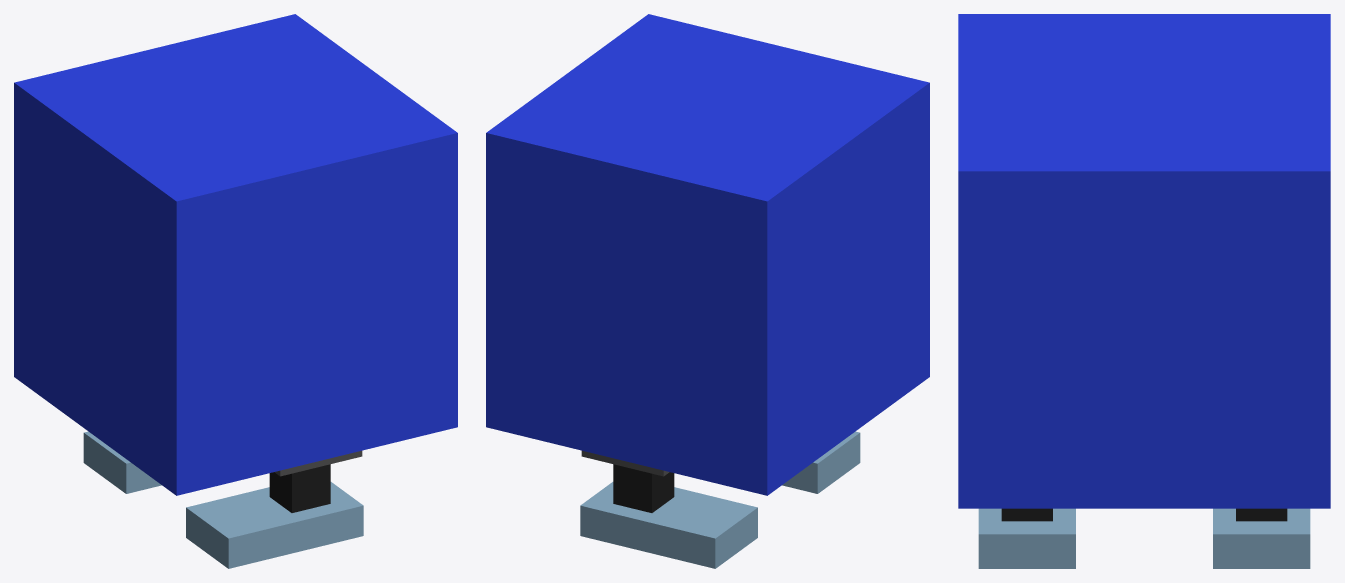
The model's file is MoveY.fbx.
3 renders of one model, left to right at view 1: azimuth 30°, elevation 25°; view 2: azimuth 150°, elevation 25°; view 3: azimuth 270°, elevation 25°, orthographic. The views are drawn at different scales.
Visible parts, largest first — view 1: 立方体.001, 立方体.013, 立方体.016, 立方体.014, 立方体.015; view 2: 立方体.001, 立方体.014, 立方体.017, 立方体.013, 立方体.012; view 3: 立方体.001, 立方体.013, 立方体.014, 立方体.016, 立方体.017.
Boxes of the visible parts, x1=… form: 立方体.001: x1=14, y1=14, x2=457, y2=495; 立方体.013: x1=186, y1=482, x2=363, y2=568; 立方体.016: x1=269, y1=464, x2=330, y2=512; 立方体.014: x1=83, y1=431, x2=161, y2=493; 立方体.015: x1=274, y1=450, x2=362, y2=476; 立方体.001: x1=486, y1=14, x2=929, y2=495; 立方体.014: x1=580, y1=482, x2=757, y2=568; 立方体.017: x1=613, y1=464, x2=674, y2=512; 立方体.013: x1=782, y1=431, x2=860, y2=493; 立方体.012: x1=581, y1=450, x2=669, y2=476; 立方体.001: x1=958, y1=14, x2=1330, y2=508; 立方体.013: x1=978, y1=508, x2=1075, y2=568; 立方体.014: x1=1213, y1=508, x2=1310, y2=568; 立方体.016: x1=1001, y1=508, x2=1052, y2=521; 立方体.017: x1=1236, y1=508, x2=1287, y2=521.
Size of the model in its own units: 2 by 2.64 by 2.
